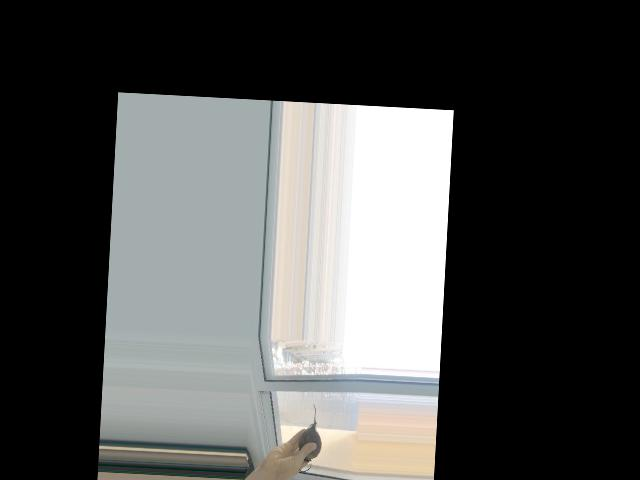beet: (290, 402, 323, 472)
